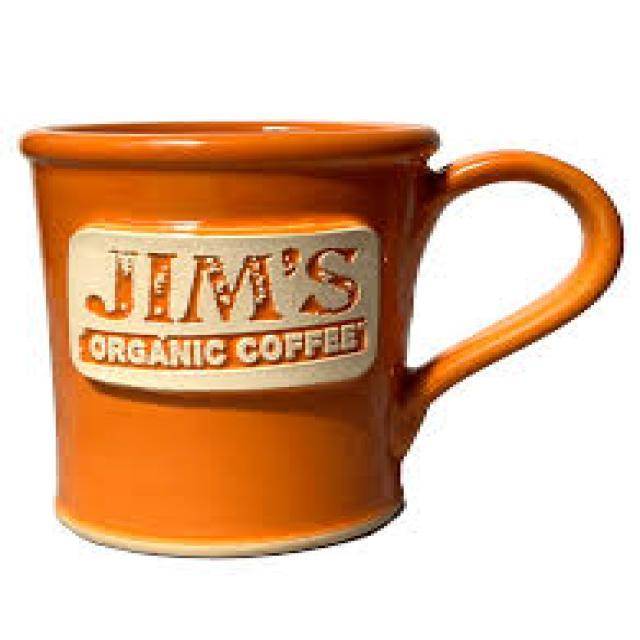taza: (19, 119, 625, 558)
